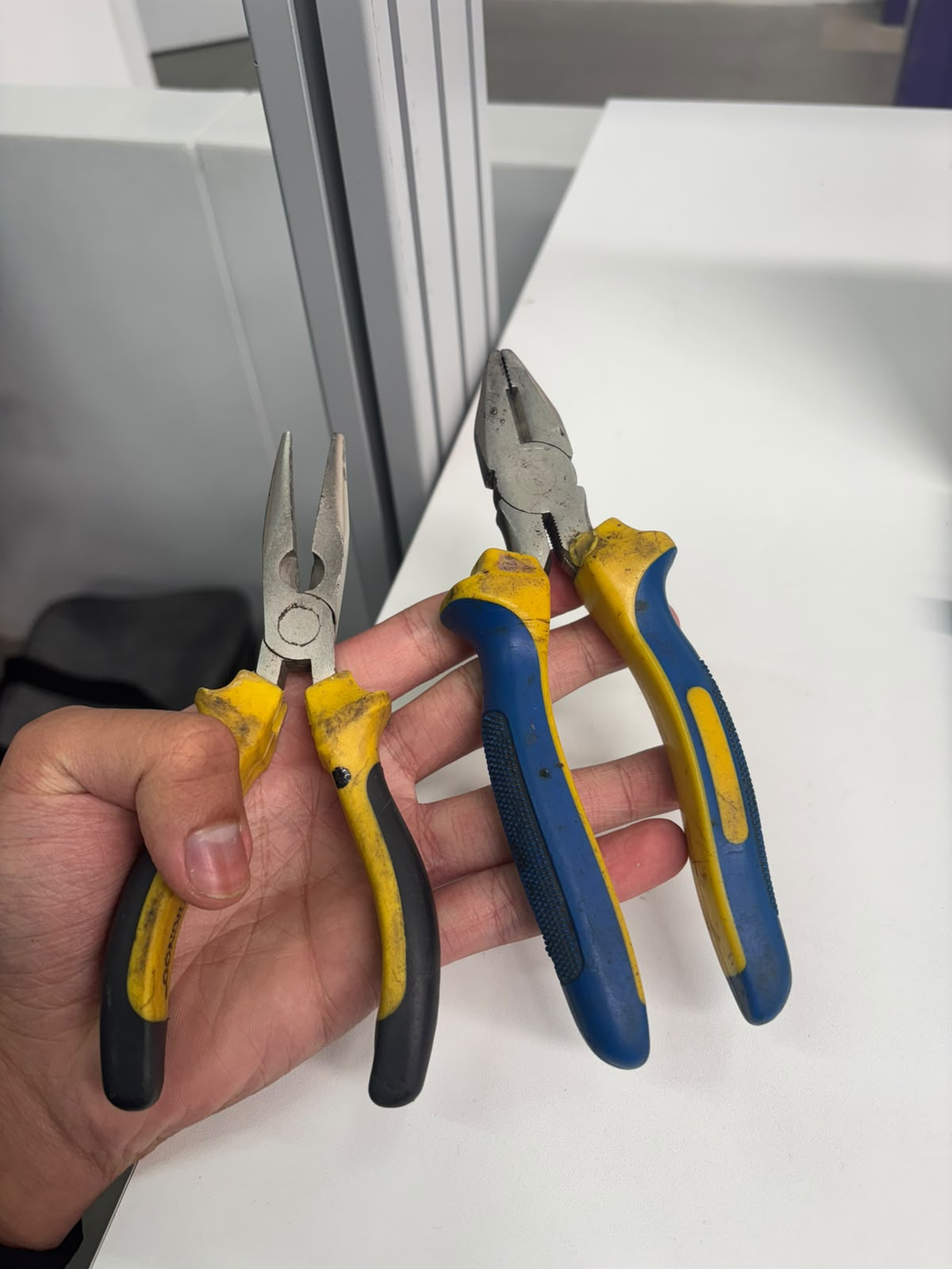plier: (436, 315, 821, 1065), (97, 409, 447, 1115)
